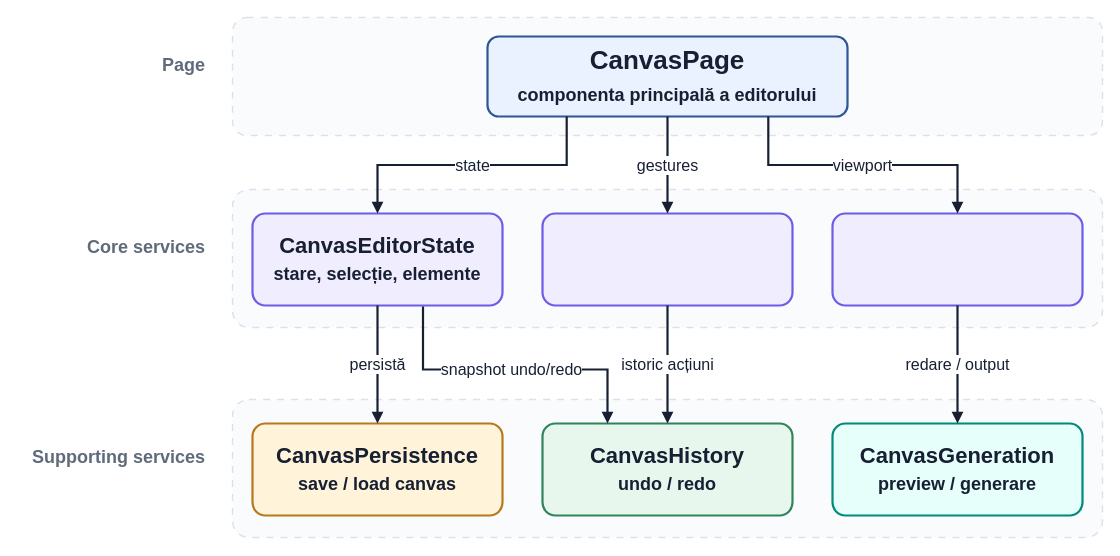
Image size: 1120x556. Some labels were removed from this diagram. Each missing label, with the box of its shape:
CanvasGesture drag, resize, interacțiuni: (541, 212, 793, 306)
CanvasViewport zoom, pan, viewport: (831, 212, 1083, 306)
